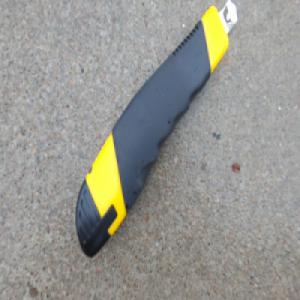Cutter: (75, 2, 237, 256)
